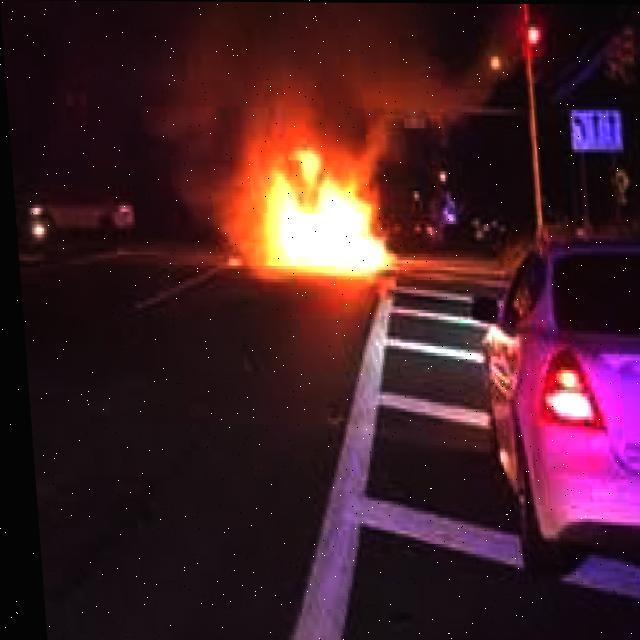Fire: (212, 130, 402, 292)
